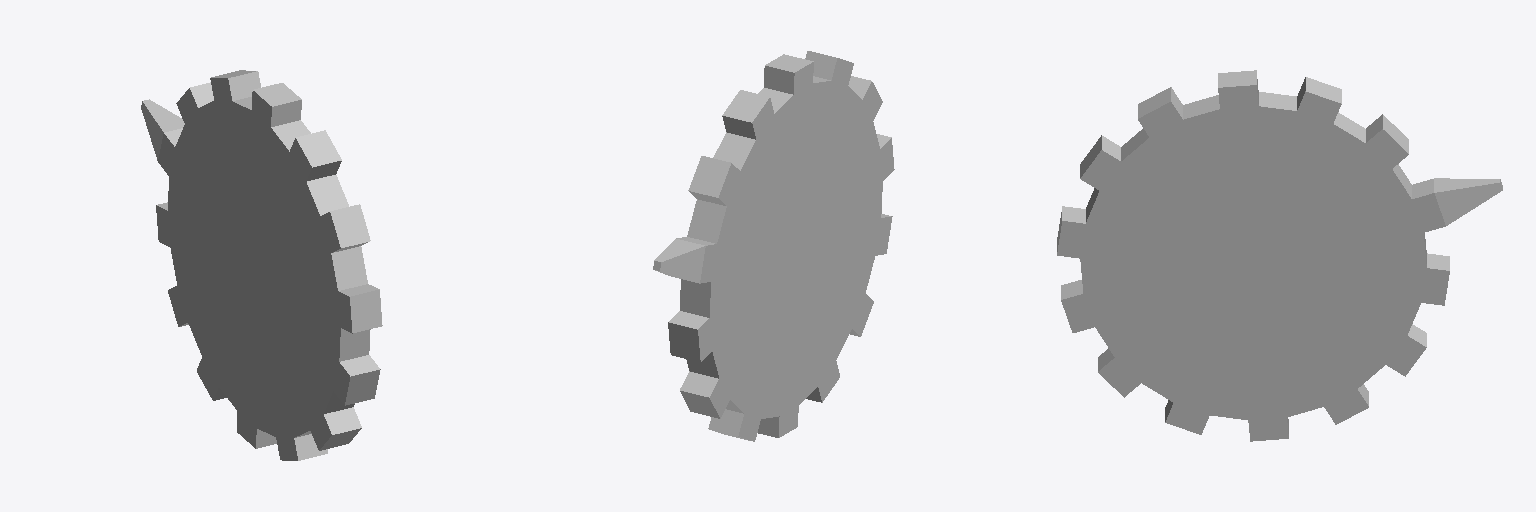
File: gear_000017.obj
3 views of the same model, side by side, from view 1: azimuth 30°, elevation 25°; view 2: azimuth 150°, elevation 25°; view 3: azimuth 270°, elevation 25° (orthographic).
Visible parts, largest first — view 1: gear_Cylinder.001; view 2: gear_Cylinder.001; view 3: gear_Cylinder.001.
Boxes of the visible parts, <box> form: gear_Cylinder.001: <box>141,70,382,460</box>; gear_Cylinder.001: <box>653,51,894,441</box>; gear_Cylinder.001: <box>1057,70,1502,441</box>.
Bounding box in the file's own units: 0.1 × 1.13 × 1.29.